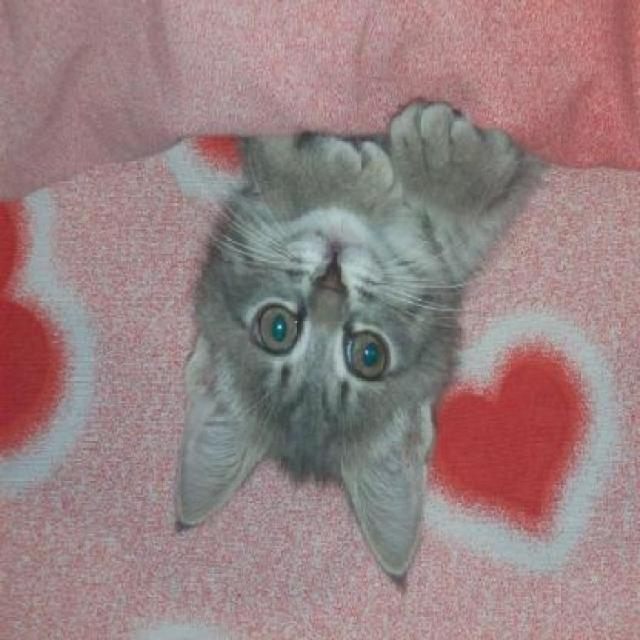cat: (169, 53, 546, 627)
